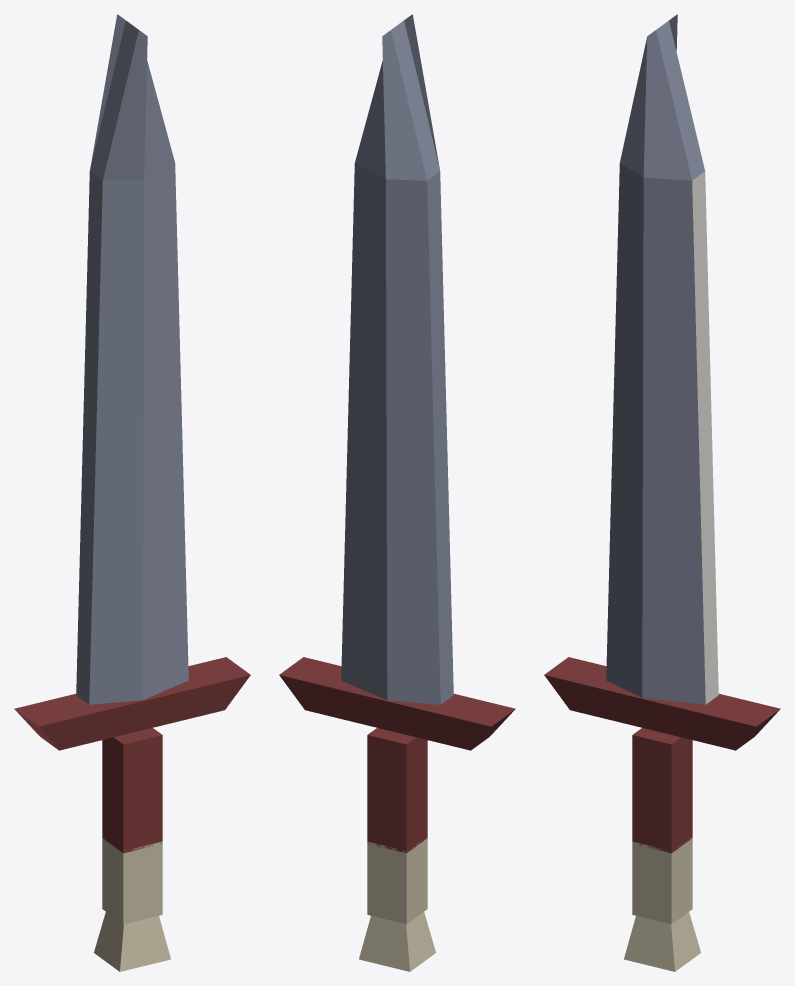
The model's file is wpn_sword_01.fbx.
3 renders of one model, left to right at view 1: azimuth 30°, elevation 25°; view 2: azimuth 150°, elevation 25°; view 3: azimuth 330°, elevation 25°, orthographic.
Visible parts, largest first — view 1: wpn_sword_01; view 2: wpn_sword_01; view 3: wpn_sword_01.
Boxes of the visible parts, x1,y1,x2,y2 form: wpn_sword_01: (14, 14, 250, 971); wpn_sword_01: (279, 14, 515, 971); wpn_sword_01: (544, 14, 780, 971).
Size of the model in its own units: 0.2816 by 0.07 by 1.18.
Materials: 1 (1 with a texture image).
